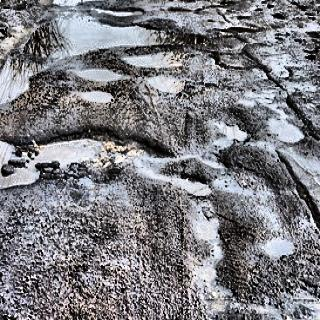crack: (275, 154, 320, 228)
pothole: (2, 0, 208, 112), (0, 122, 166, 188), (180, 194, 234, 320), (129, 151, 214, 204), (240, 80, 306, 144), (214, 22, 262, 70), (121, 49, 186, 74), (208, 118, 246, 152), (68, 62, 131, 82), (142, 74, 188, 100), (260, 232, 296, 259), (80, 89, 118, 110)
